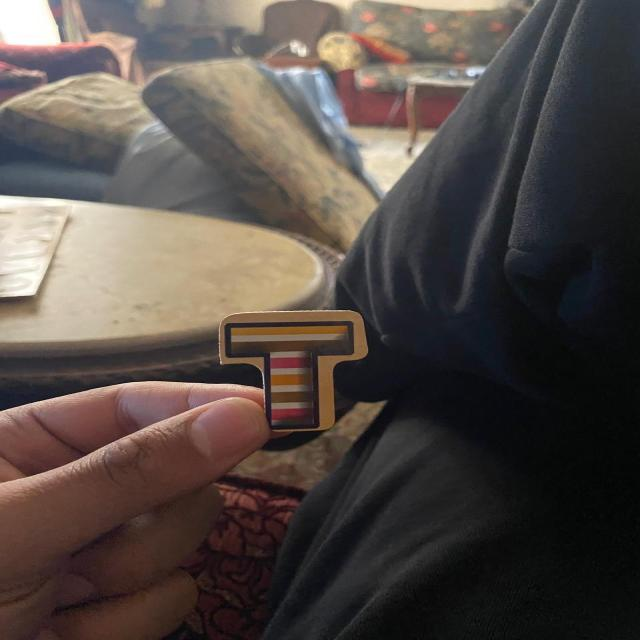T: (219, 310, 367, 432)
